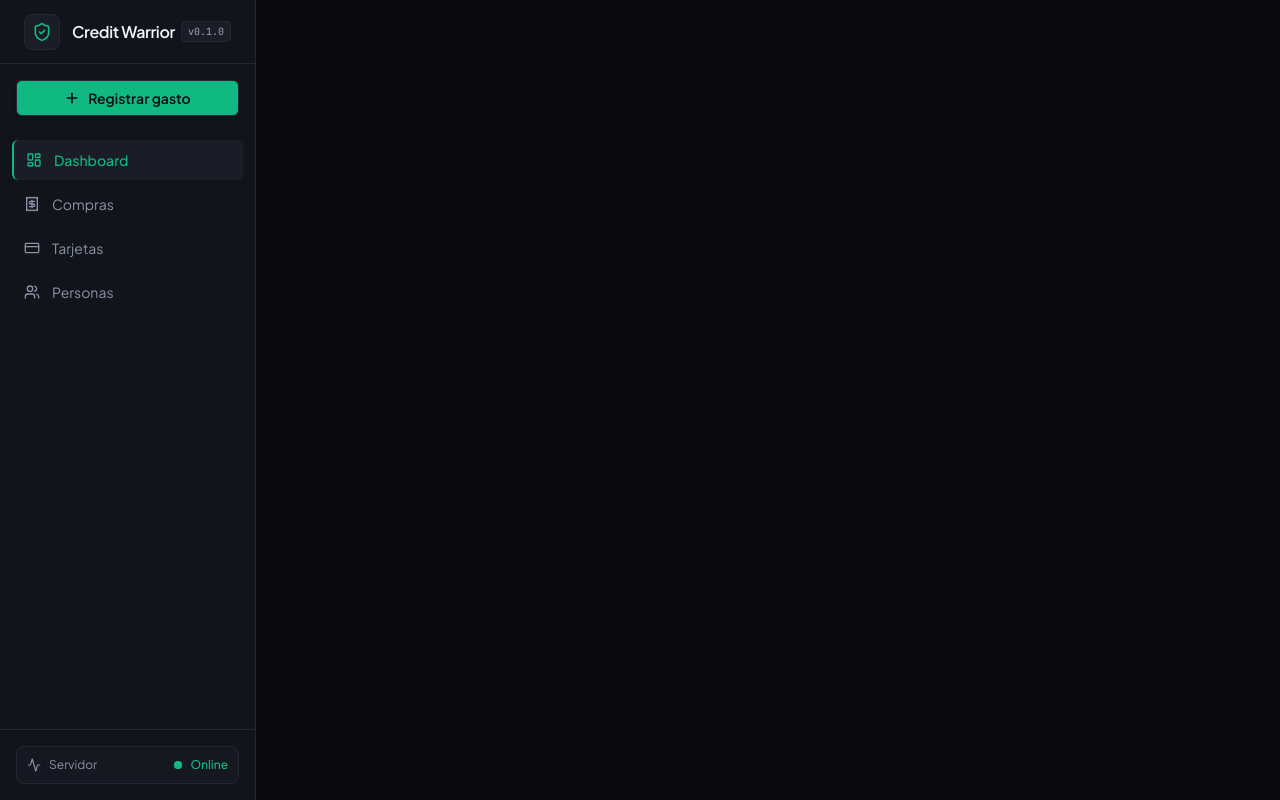
Test: Navigation Triggers Connection (Spec 004 T9) › opens QuickExpenseDrawer when primary action button in DesktopSidebar is clicked
This screenshot has width=1280, height=800.
Check: the text with test id "context-is-open" reads "closed", box [0,1,52,22]
Step 1. Click the button "Registrar gasto" → (128, 98), box [16,80,239,116]
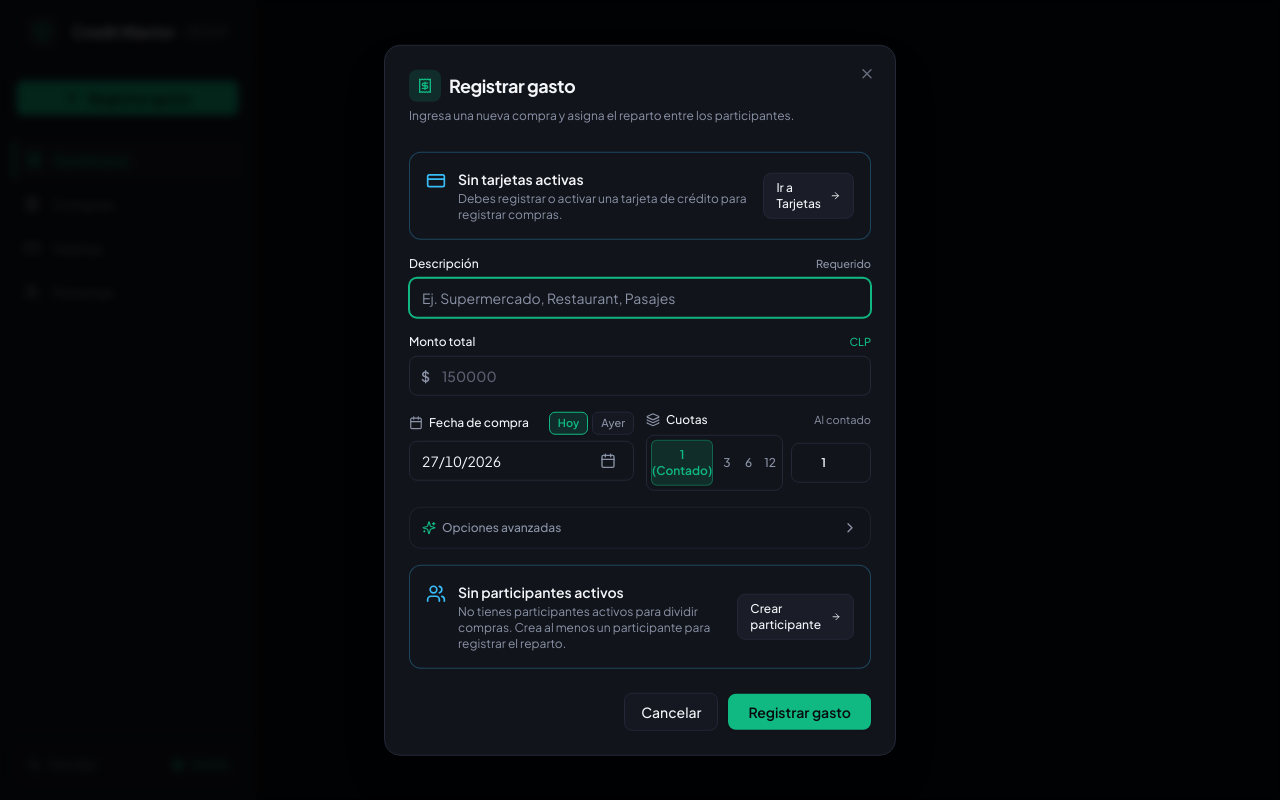
Check: the heading "Registrar gasto" is shown, box [409,70,575,102]
